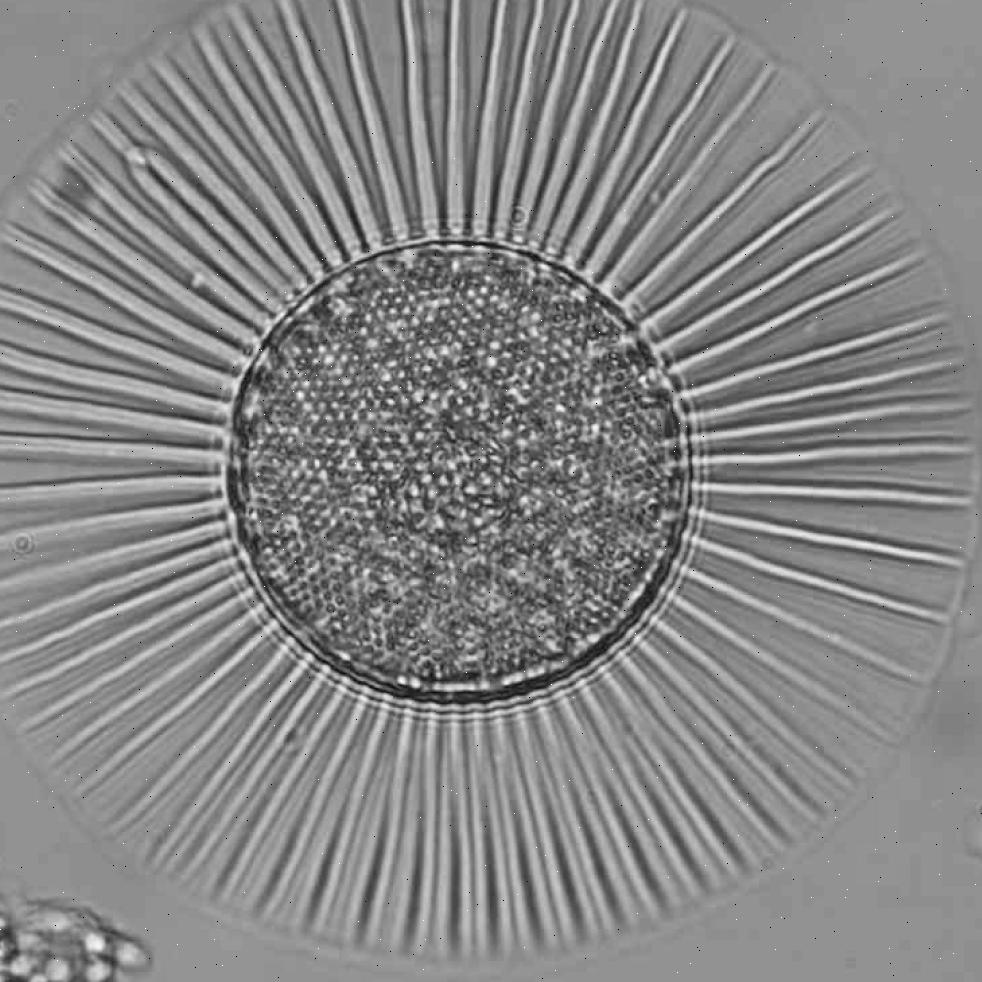planktoniella_sol: (0, 0, 977, 966)
